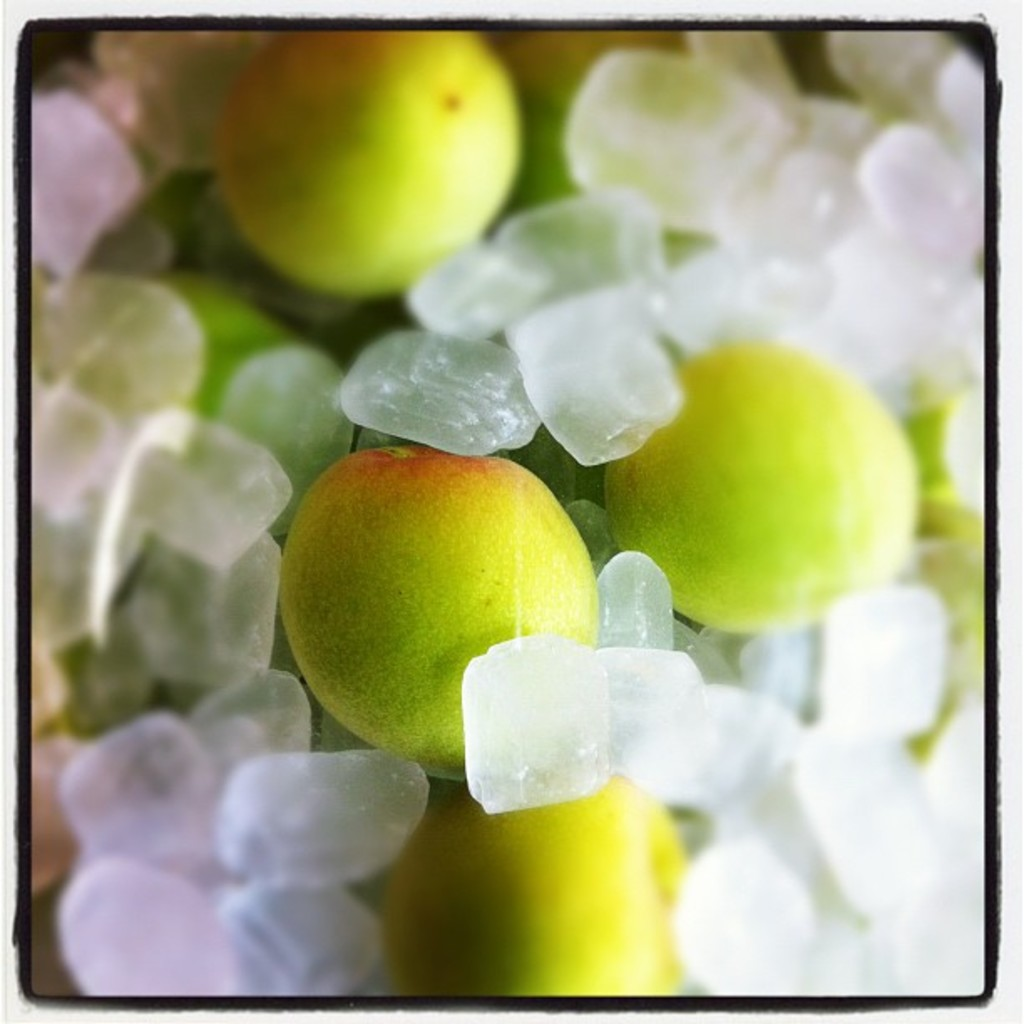Apple: (314, 399, 583, 727)
